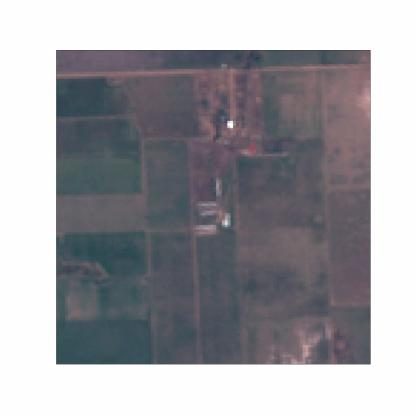silobolsa: (198, 207, 220, 218), (197, 198, 219, 208), (193, 224, 217, 233), (215, 178, 222, 198)
